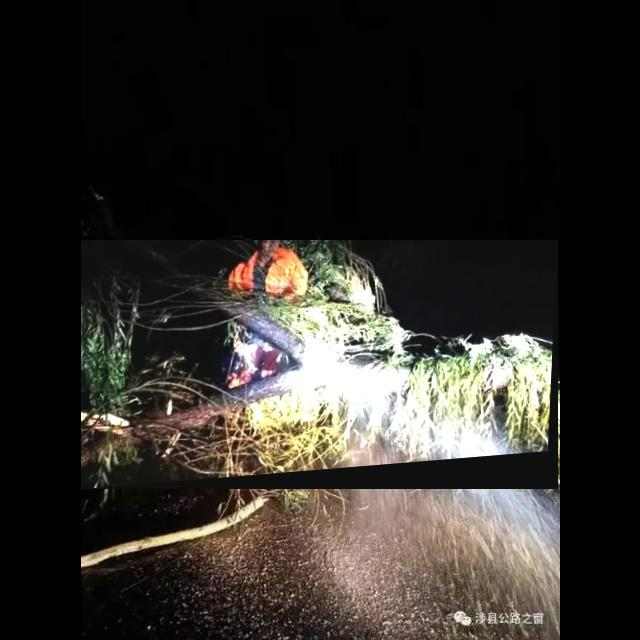fallen_tree: (81, 240, 559, 490)
